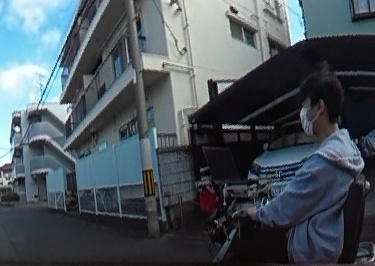person: (235, 75, 363, 266)
